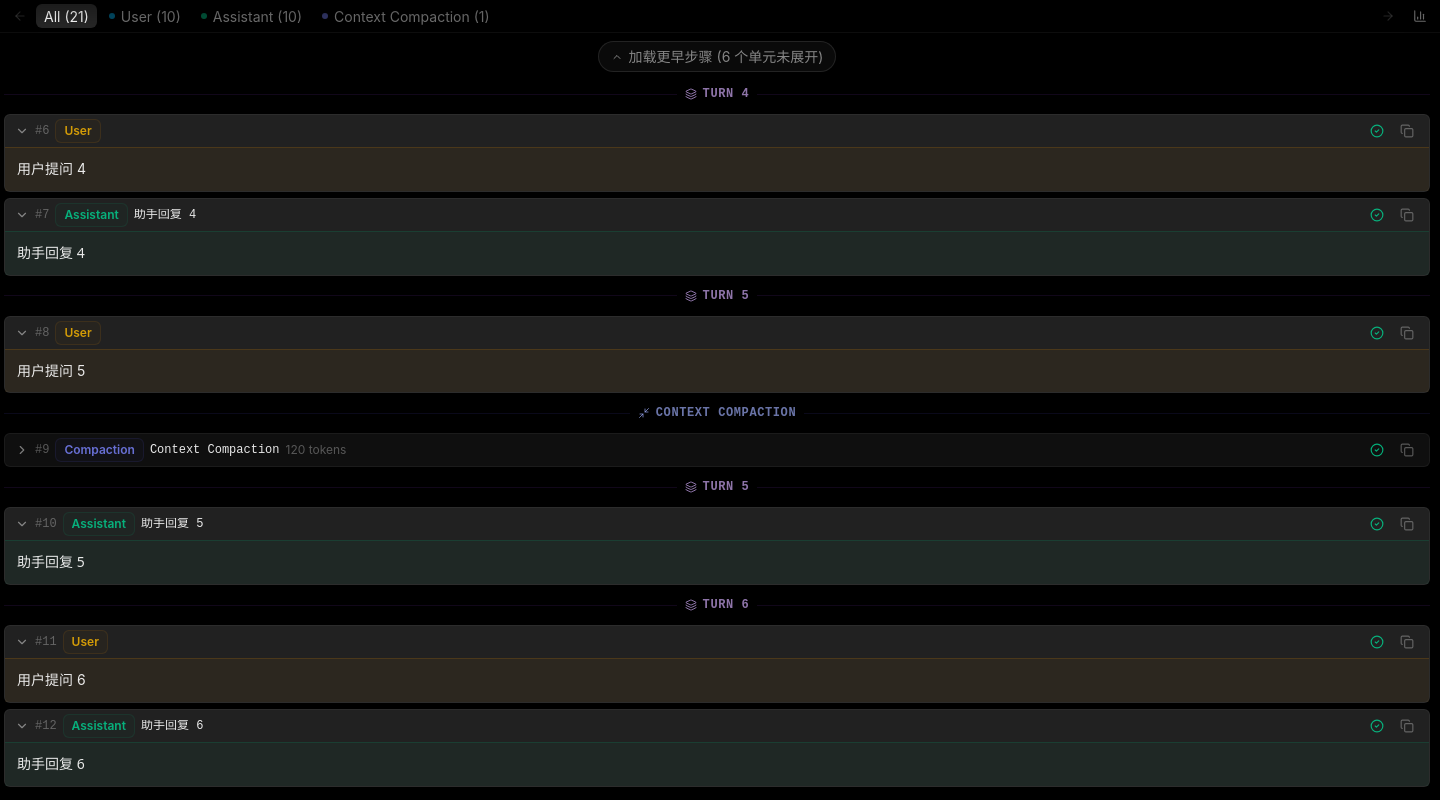
it: AgentExecutionFlowList › 当步骤元素数量超出滑动窗口初始大小时，渲染折叠历史按钮并支持点击展开更早步骤（含压缩消息）
The width and height of the screenshot is (1440, 800).
Expected: the text "加载更早步骤 (6 个单元未展开)" is shown, [629,46,823,67]
Expected: the text "用户提问 1" is not shown
Step 1. Click the button "加载更早步骤 (6 个单元未展开)" → [717, 56], box [598,41,836,72]
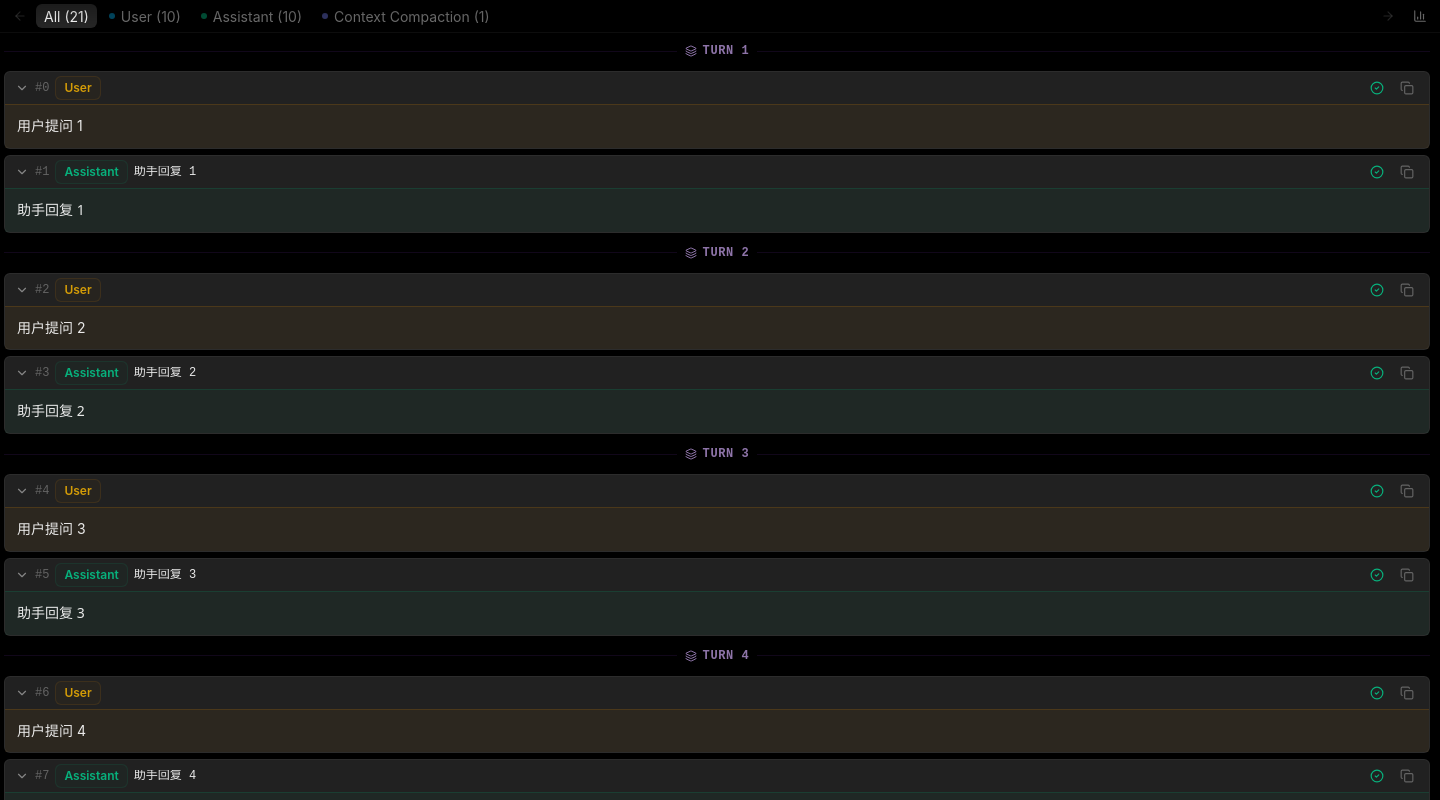
Now the text "用户提问 1" is shown, box [17,117,83,134]
